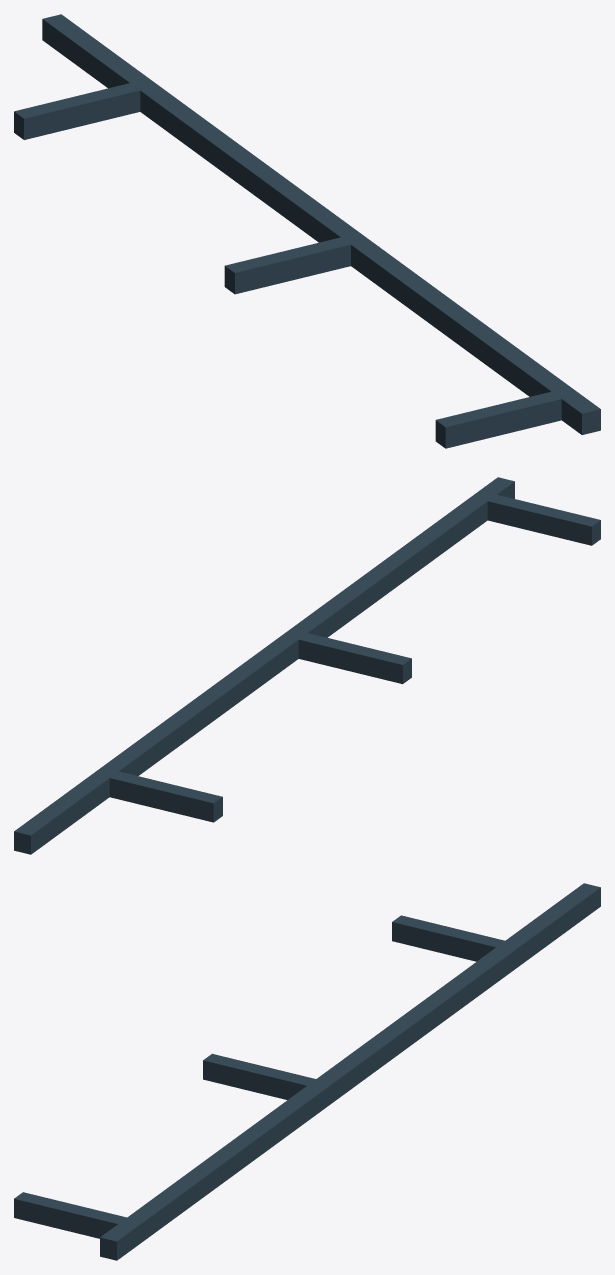
File: v02-transit-world-03-03-05.glb
3 renders of one model, top to bottom at view 1: azimuth 30°, elevation 25°; view 2: azimuth 150°, elevation 25°; view 3: azimuth 330°, elevation 25°, orthographic. The views are drawn at different scales.
Visible parts, largest first — view 1: v02-transit-world-03-03-05; view 2: v02-transit-world-03-03-05; view 3: v02-transit-world-03-03-05.
Boxes of the visible parts, left/top/right/bottom form: v02-transit-world-03-03-05: left=14, top=14, right=600, bottom=448; v02-transit-world-03-03-05: left=14, top=477, right=600, bottom=854; v02-transit-world-03-03-05: left=14, top=883, right=600, bottom=1260.
Size of the model in its own units: 9.25 by 1.4 by 63.99.
